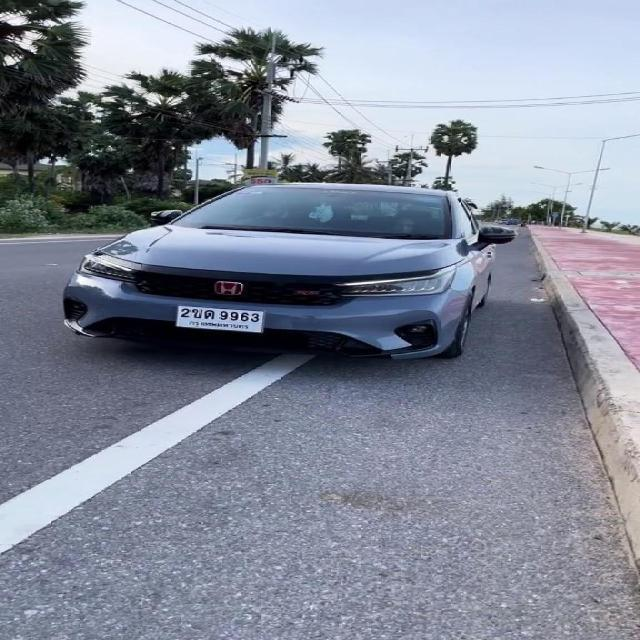Hatchback: (63, 183, 516, 359)
